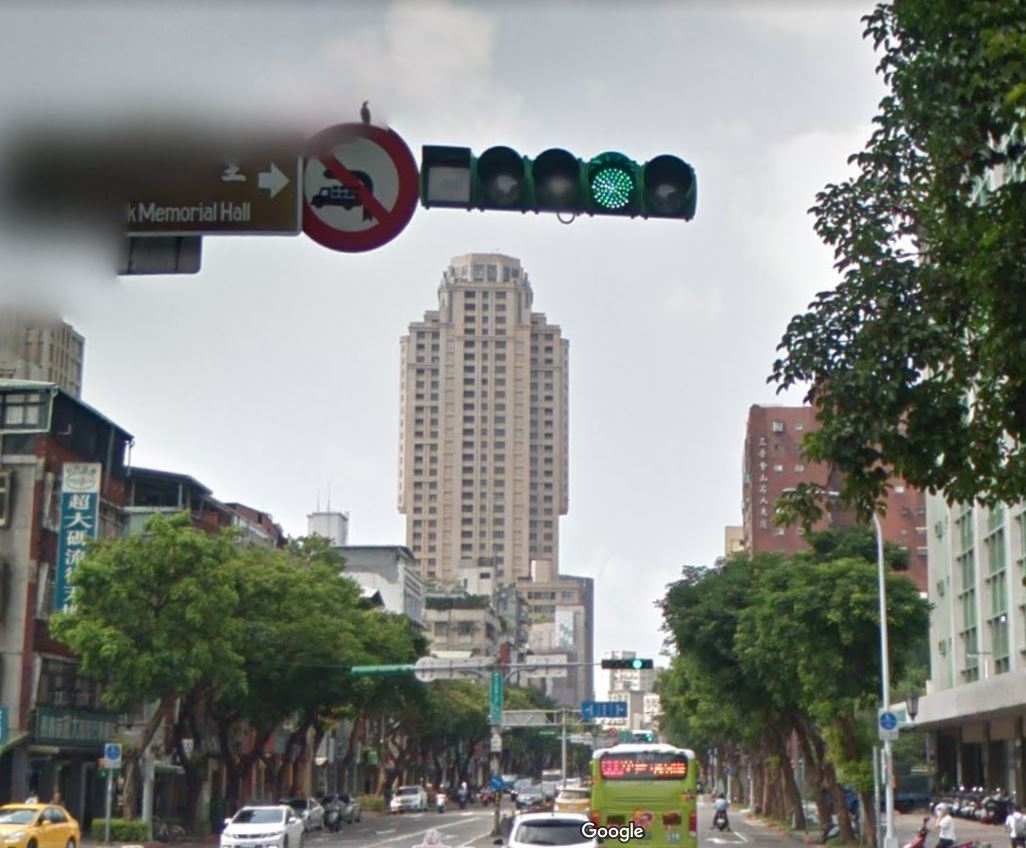Traffic_light_green: (432, 151, 701, 226)
